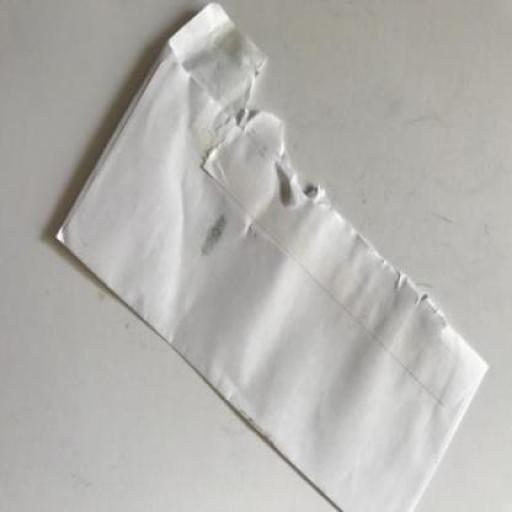paper: (58, 5, 492, 511)
